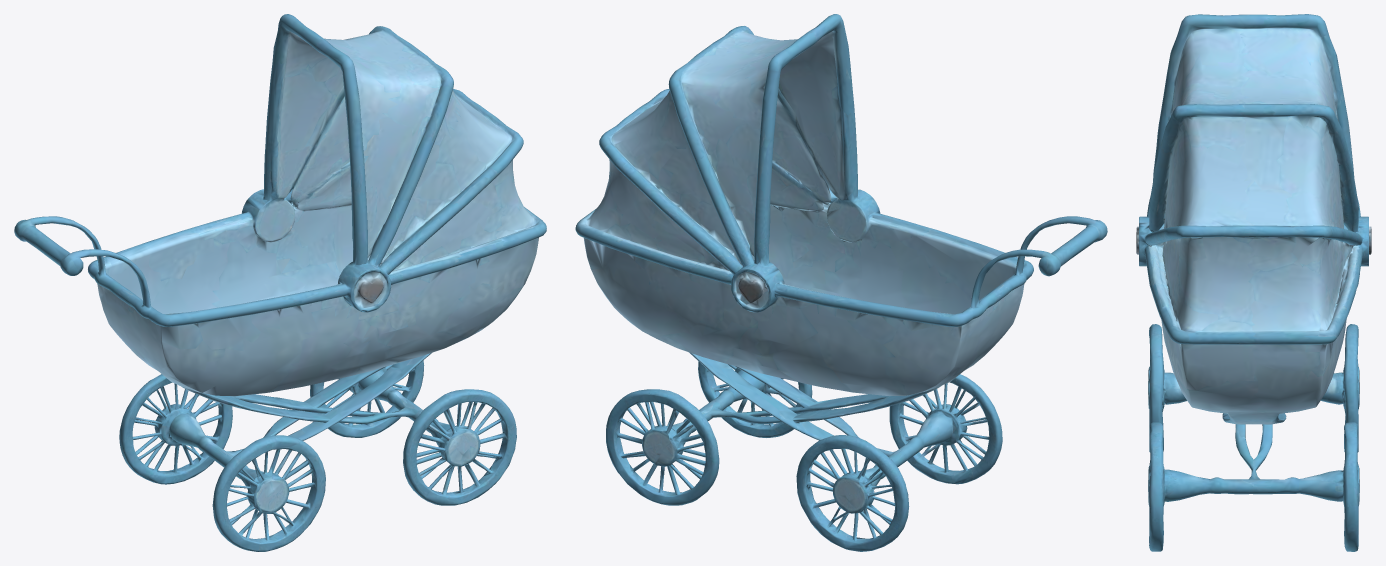
3 views of the same model, side by side, from view 1: azimuth 30°, elevation 25°; view 2: azimuth 150°, elevation 25°; view 3: azimuth 270°, elevation 25° (orthographic). The views are drawn at different scales.
Size of the model in its own units: 1.9 by 1.76 by 0.778.
1 material, 1 textured.
